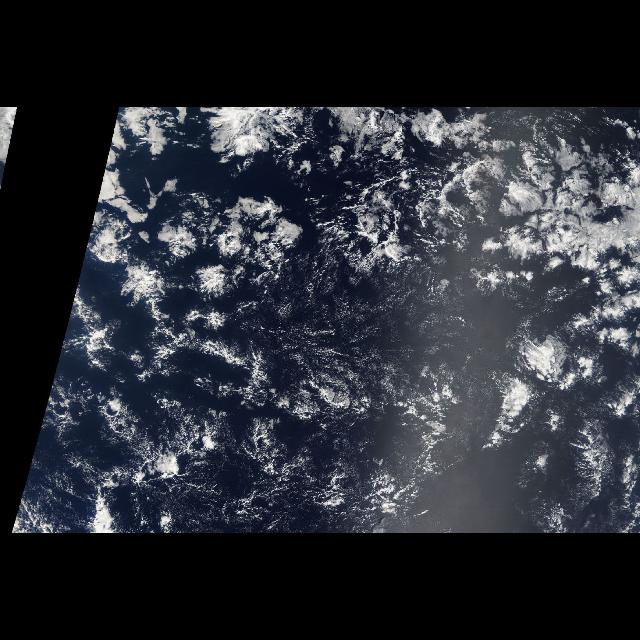Flower: (448, 136, 640, 358), (94, 179, 312, 325)
Sugar: (317, 270, 448, 410)
